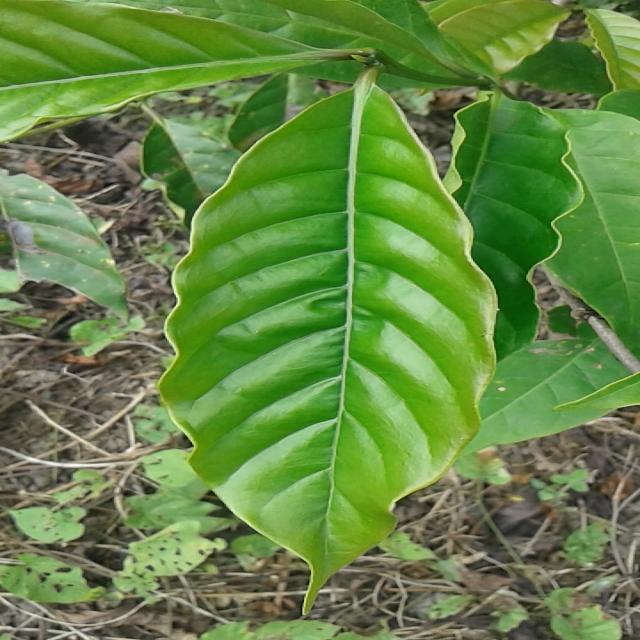Sanas: (157, 71, 496, 607)
